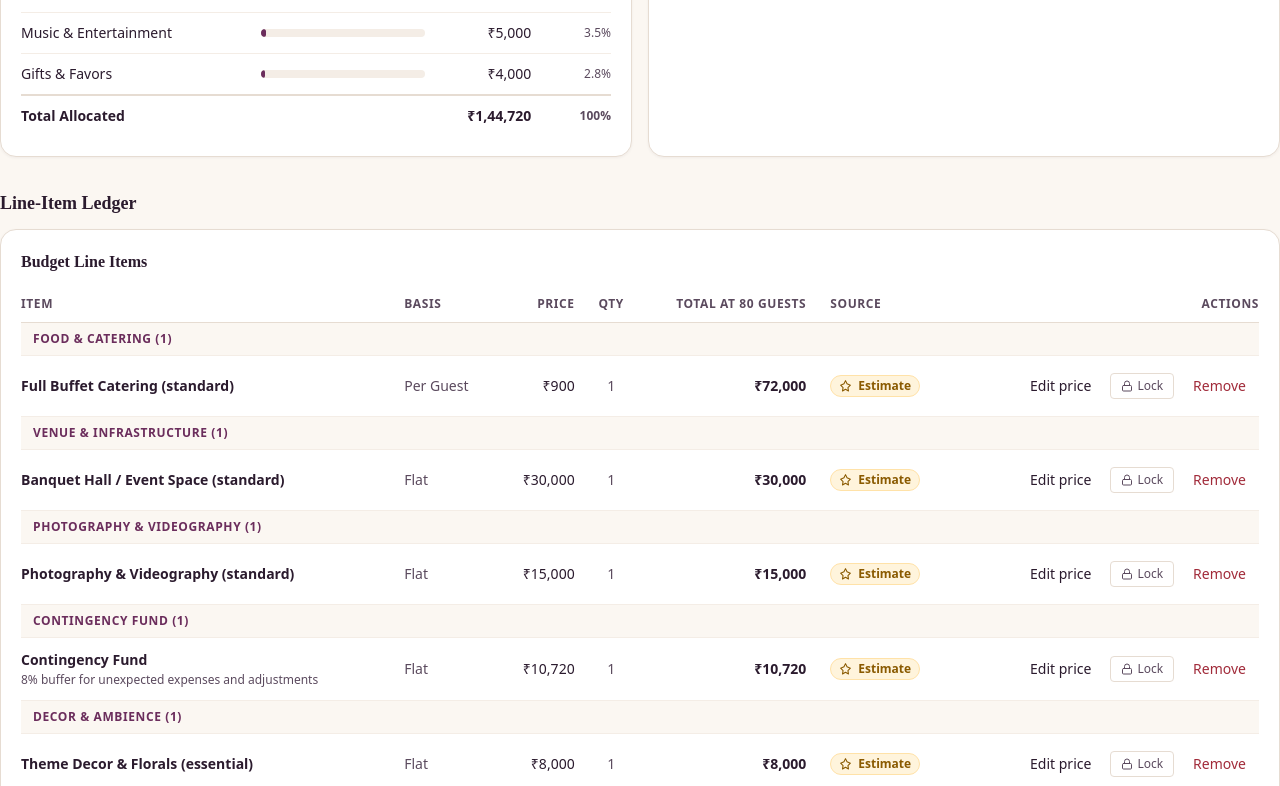
Test: Budget Guardian Page & Components › intercepts edits that exceed hard budget cap and displays funding options
(page scrolled)
// Edit price to an exorbitant amount exceeding 150000 cap
Click the button "Edit price" in the row of "Full Buffet Catering (standard)" at (1061, 386), box [1017,368,1104,404]
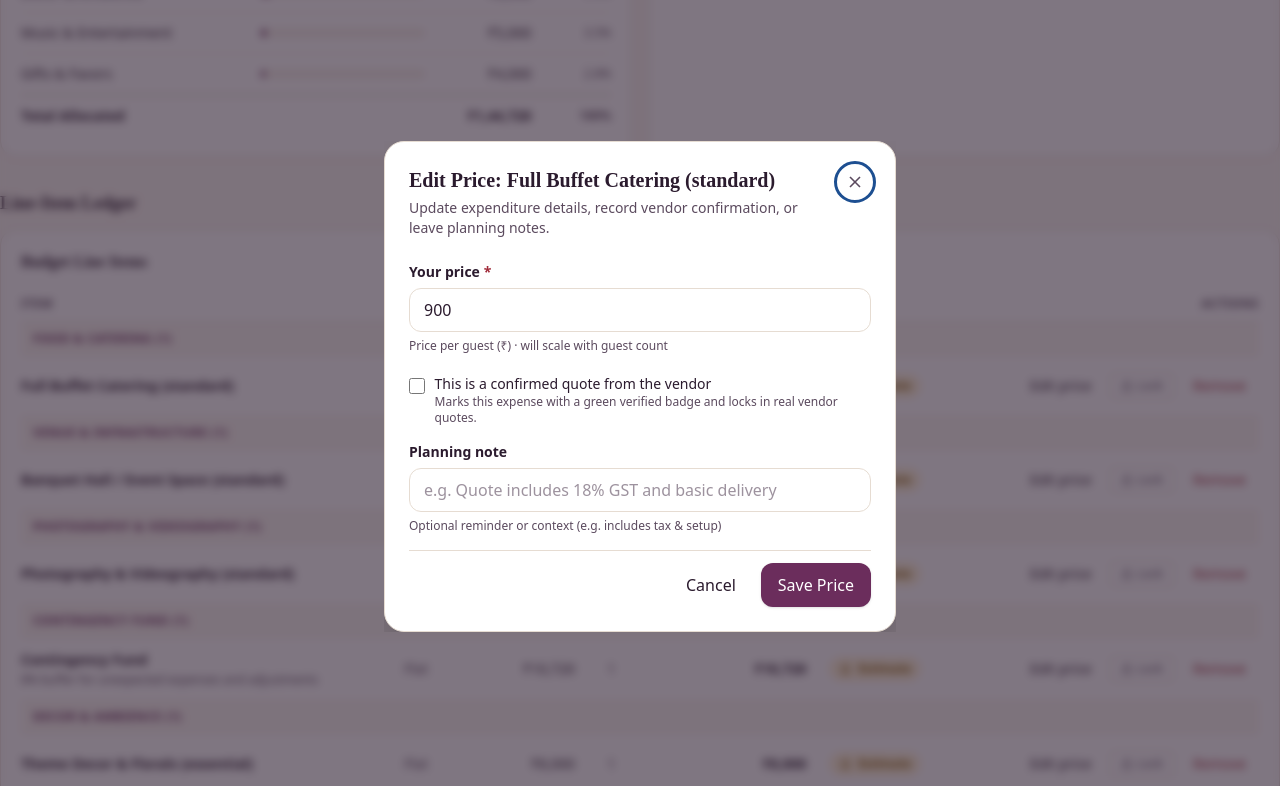
Replace the text in the number field labelled "Your price *" with "300000" at (640, 310), box [409,288,871,332]
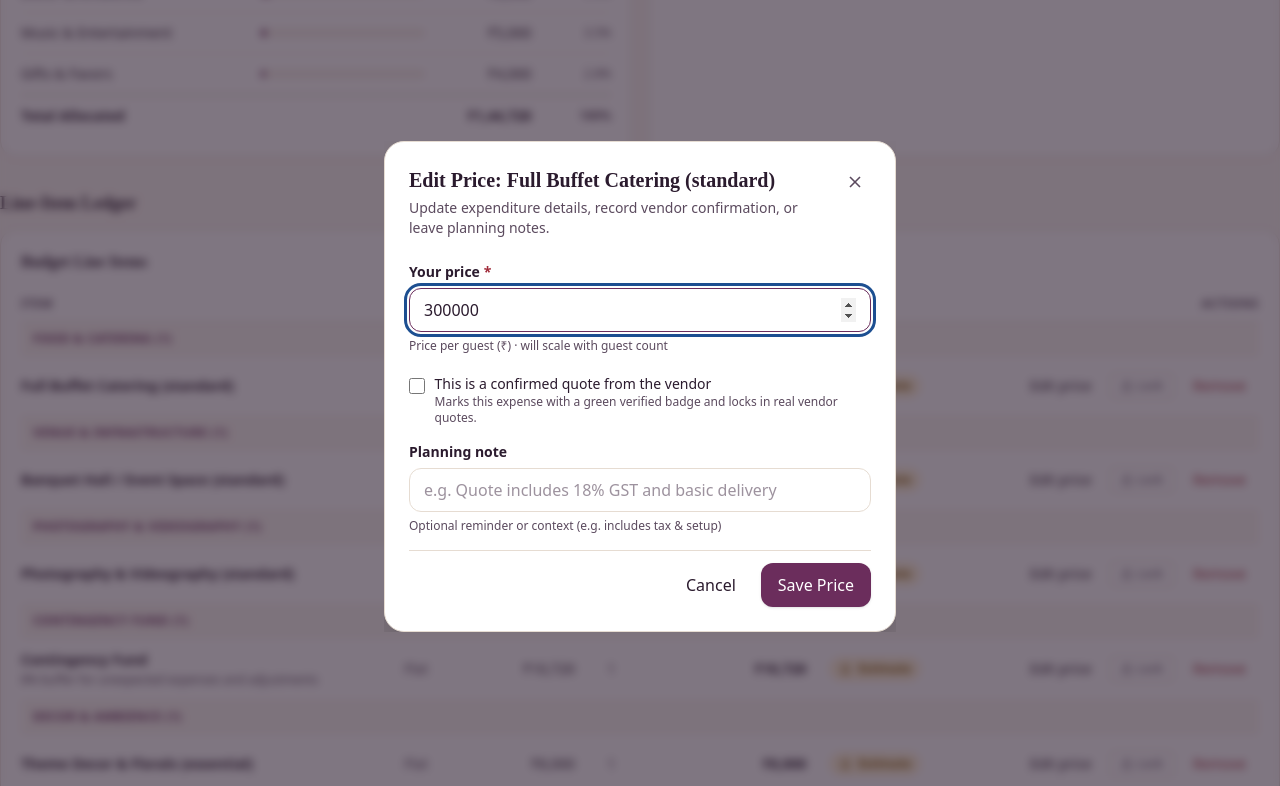
Click the button "Save Price" at (816, 584), box [761,562,871,606]
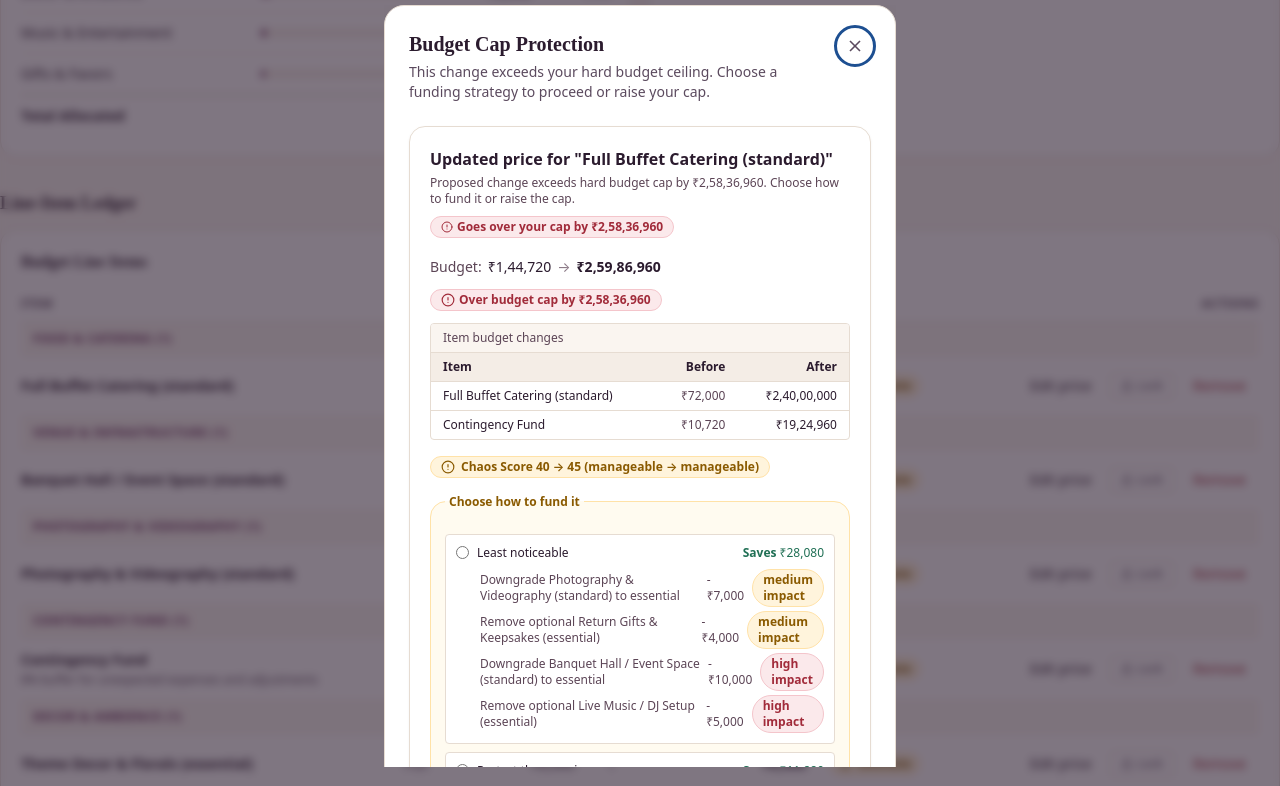
Expected: the heading "Budget Cap Protection" is shown, [409,33,604,55]
Expected: the text "Goes over your cap by ₹2,58,36,960" is shown, [457,219,663,235]
